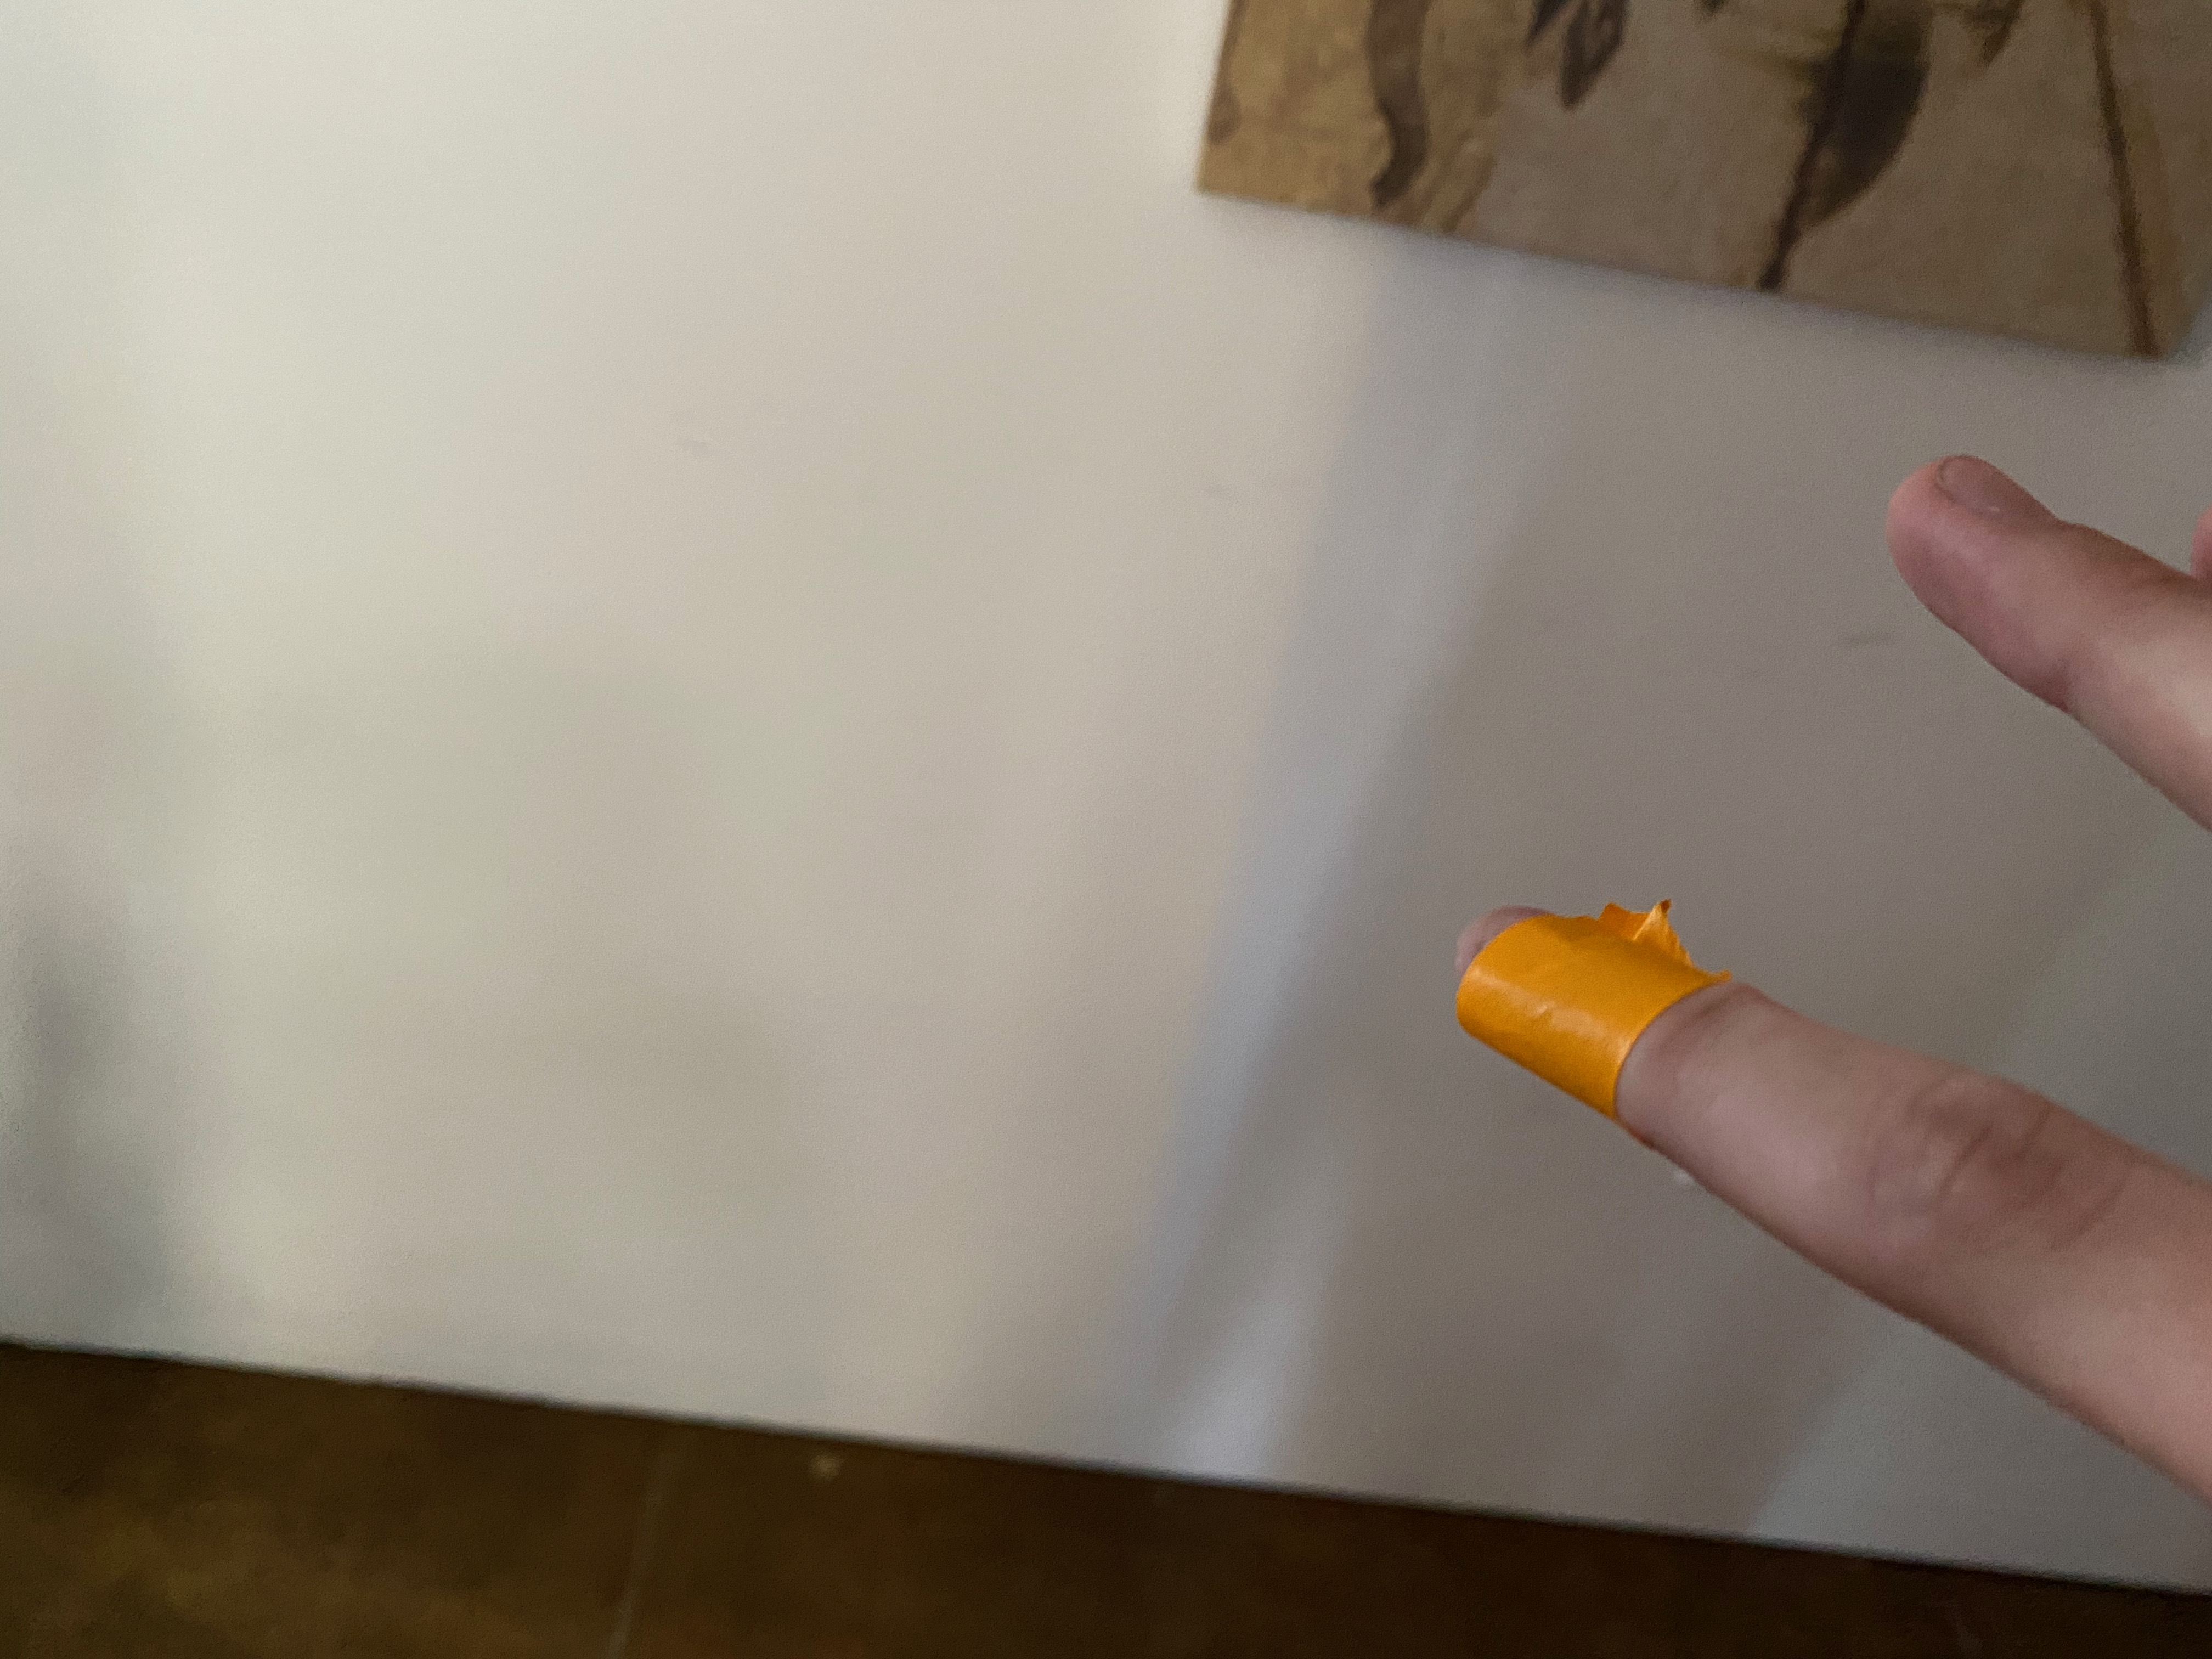fingertip: (1378, 875, 1745, 1187)
